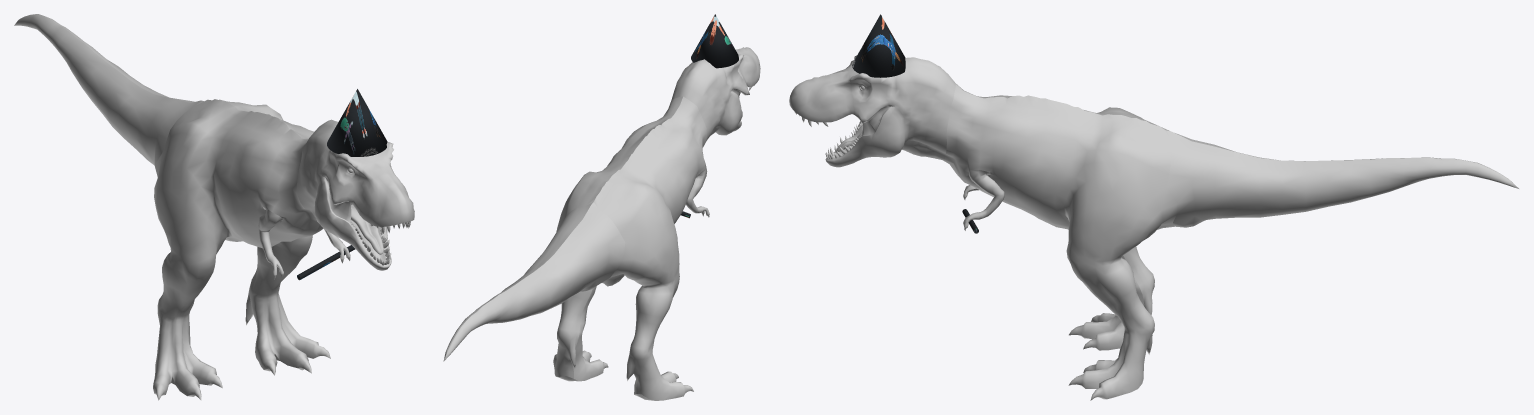
The model's file is dino.fbx.
The picture shows the model from 3 angles, left to right: view 1: azimuth 30°, elevation 25°; view 2: azimuth 150°, elevation 25°; view 3: azimuth 270°, elevation 25°; orthographic projection. The views are drawn at different scales.
Parts seen in each view (by area): view 1: Trex.001, Cone, Cylinder; view 2: Trex.001, Cone; view 3: Trex.001, Cone.
Boxes of the visible parts, box(x1,y1,x2,y2) form: Trex.001: box(14, 14, 414, 400); Cone: box(327, 89, 387, 156); Cylinder: box(297, 245, 355, 280); Trex.001: box(443, 47, 760, 400); Cone: box(691, 14, 738, 68); Trex.001: box(789, 55, 1518, 400); Cone: box(852, 14, 905, 77).
Size of the model in its own units: 648 by 1353 by 2557.
